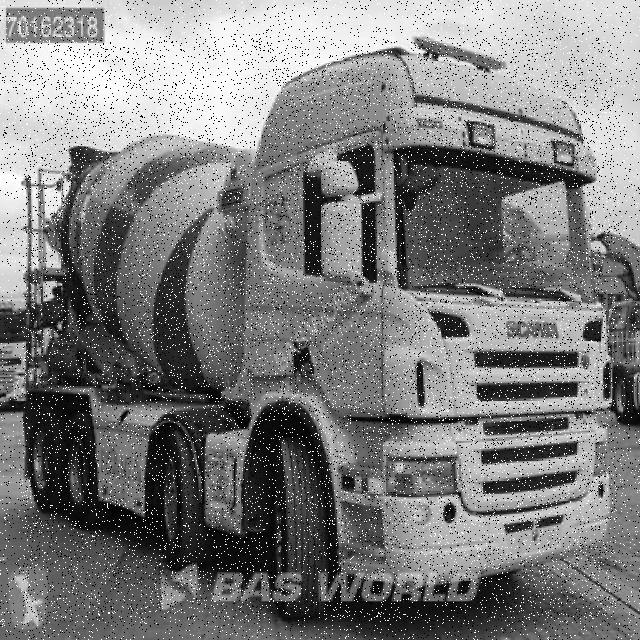Concrete Mixer: (23, 37, 617, 621)
